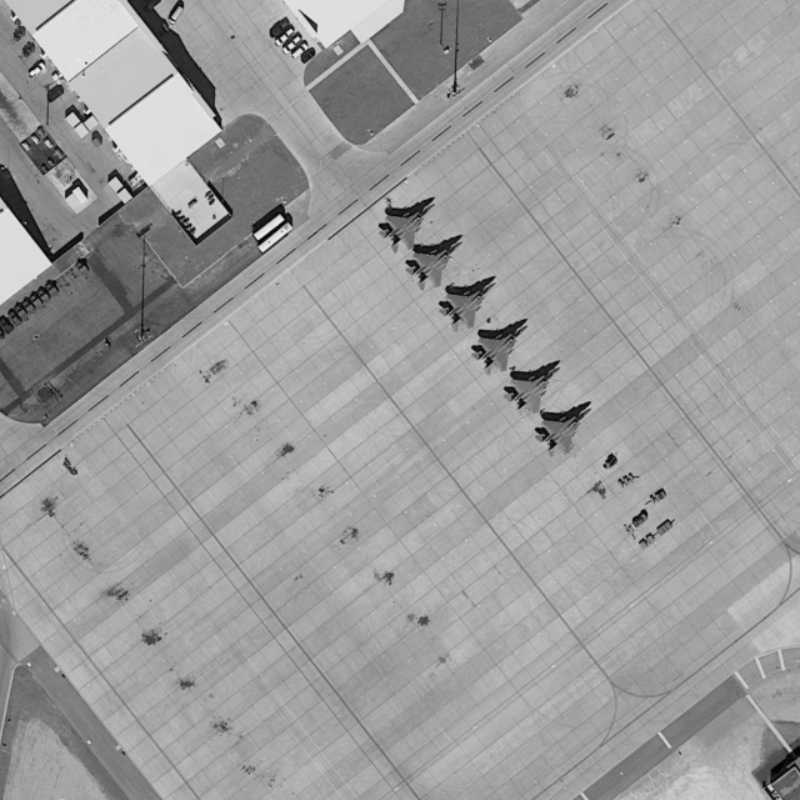A13: (396, 230, 471, 296), (372, 187, 442, 255), (499, 357, 567, 419), (532, 392, 595, 458), (470, 317, 533, 379), (437, 280, 500, 333)
